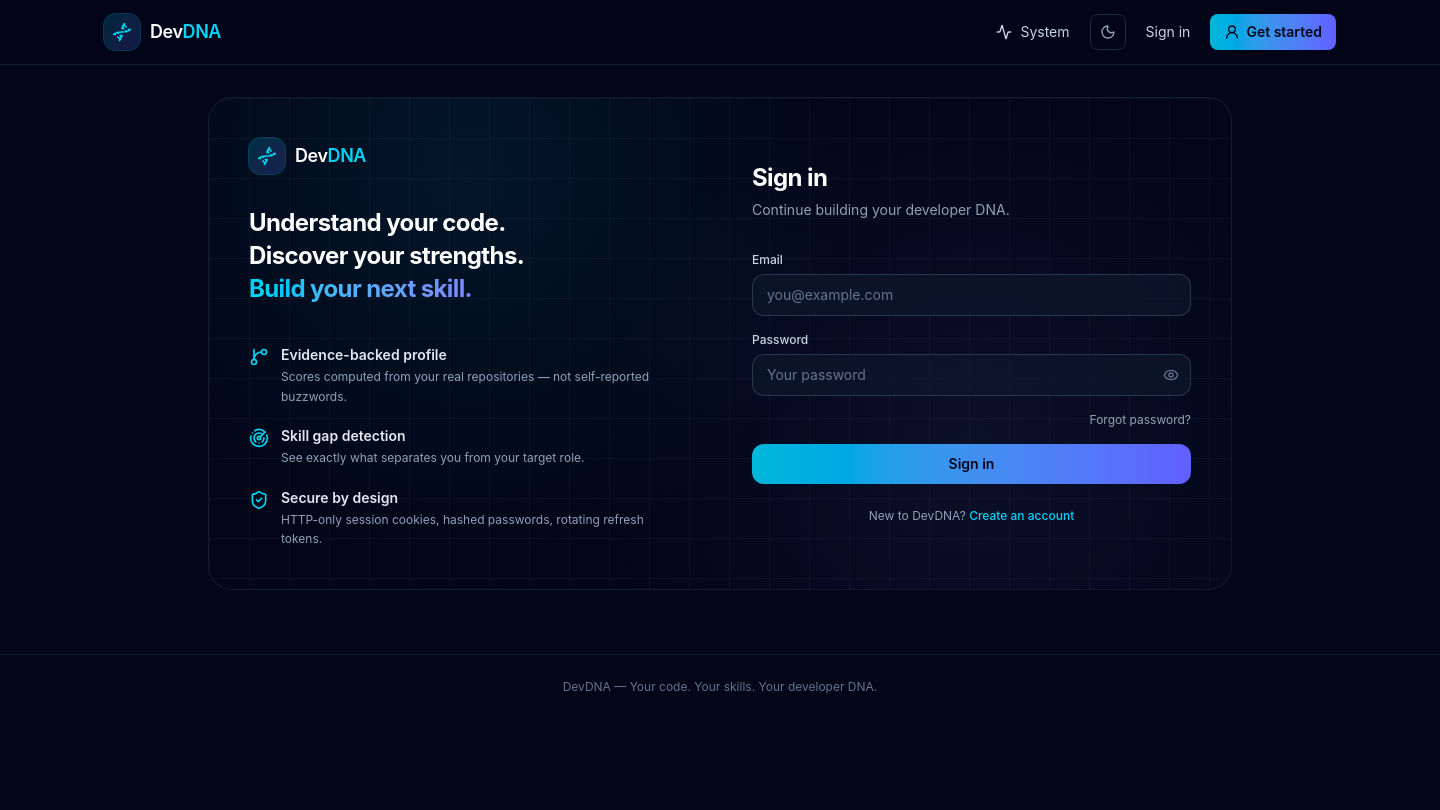
login form › surfaces server errors (wrong credentials) inline
The image size is (1440, 810).
In the field labelled "Email": (972, 295) x1=752 y1=274 x2=1191 y2=316, type "ada@example.com"
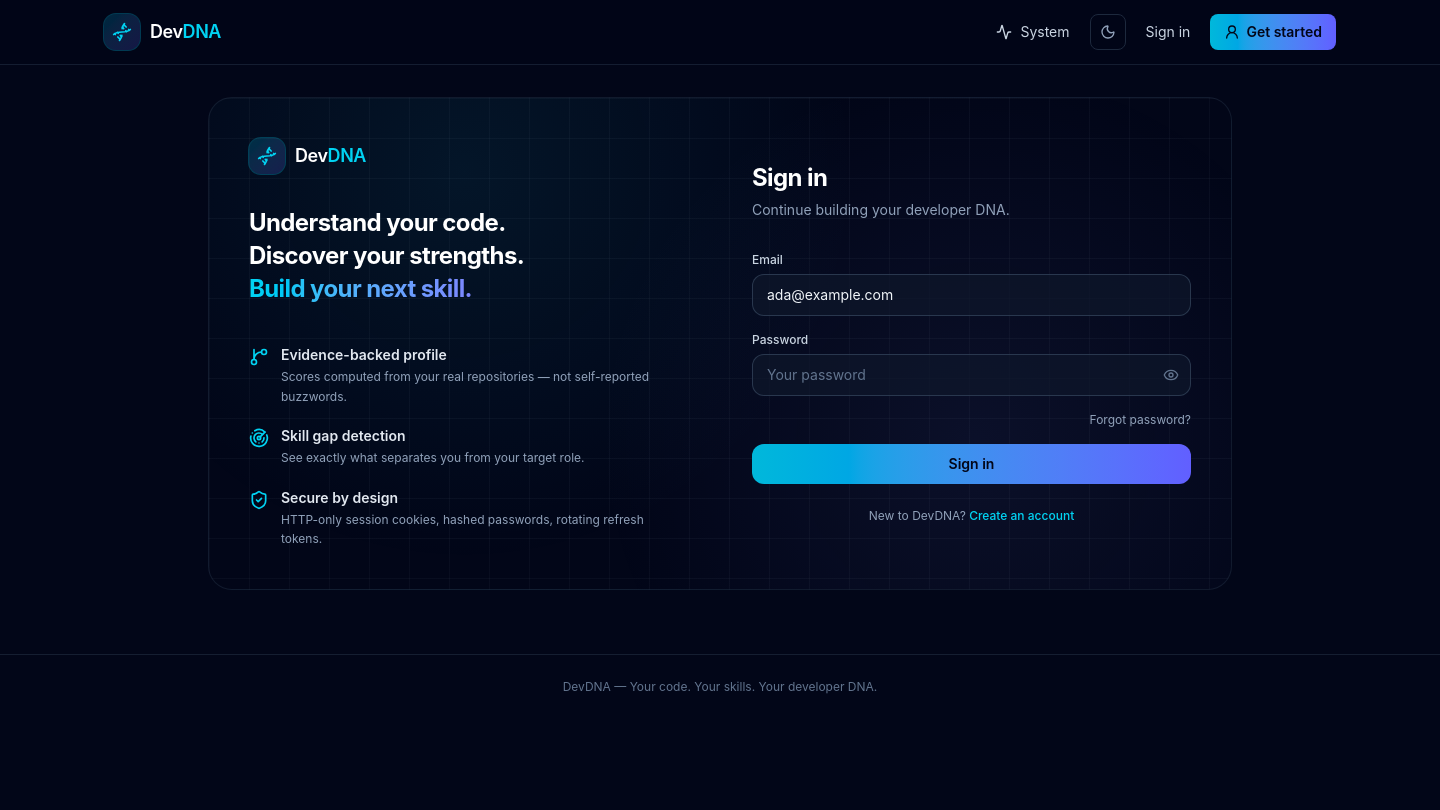
In the password field labelled "Password": (972, 375) x1=752 y1=354 x2=1191 y2=396, type "WrongPass1"
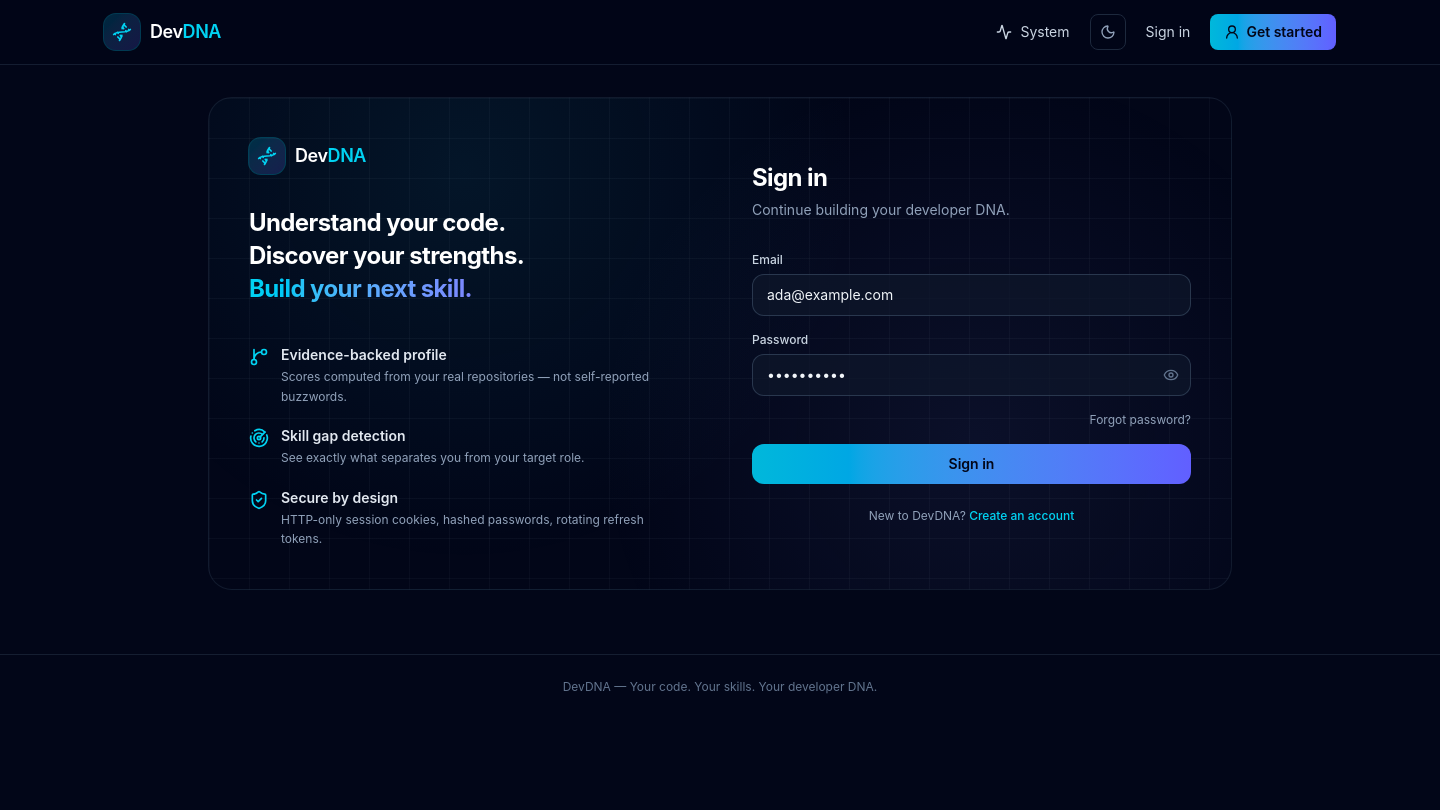
Click the button "Sign in": (972, 464) x1=752 y1=444 x2=1191 y2=484
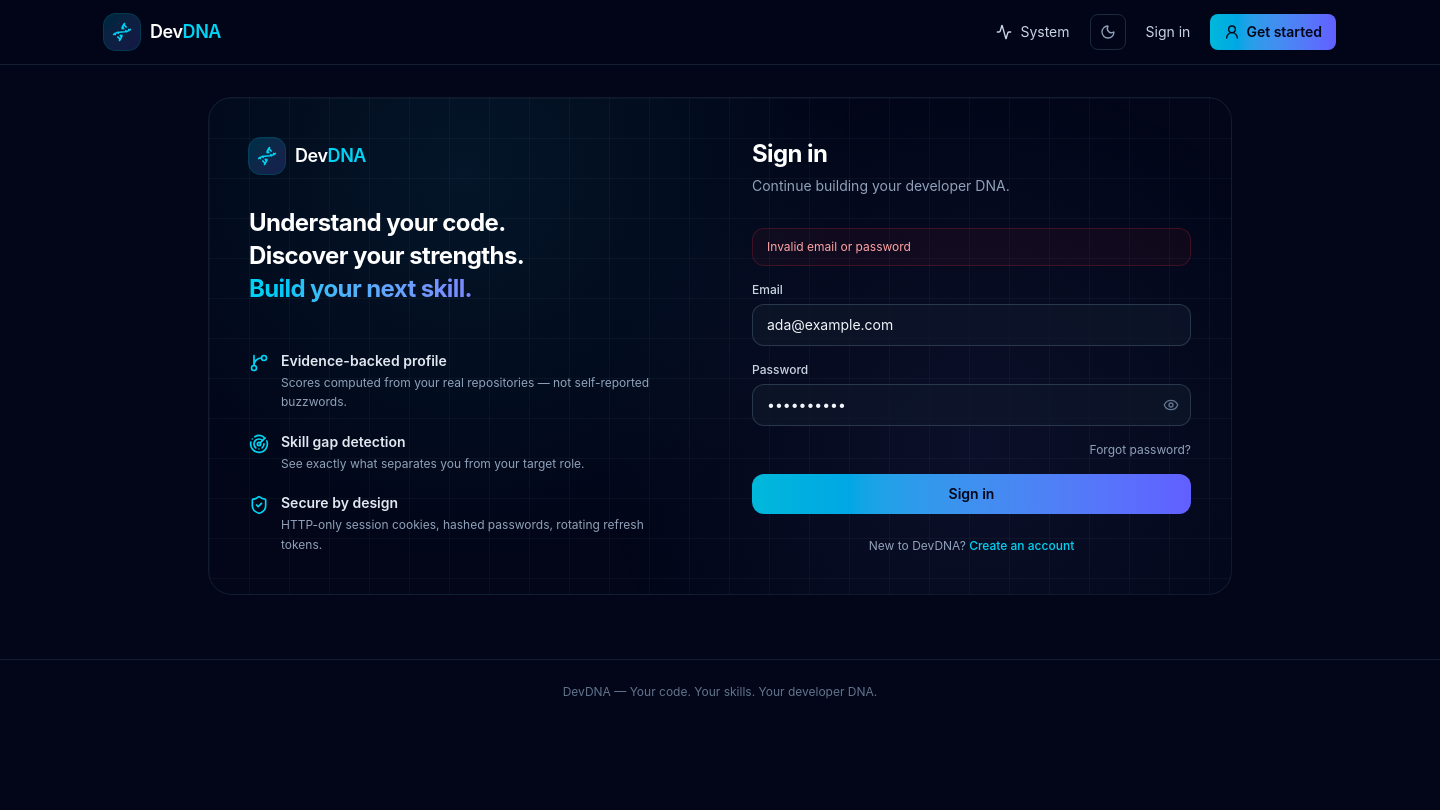
Now the text "Invalid email or password" is shown, box x1=752 y1=228 x2=1191 y2=266
